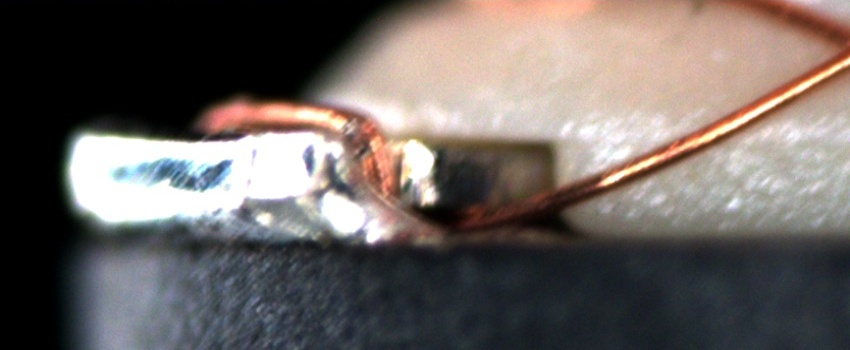DL: (714, 110, 850, 167)
TE: (195, 87, 418, 208)
